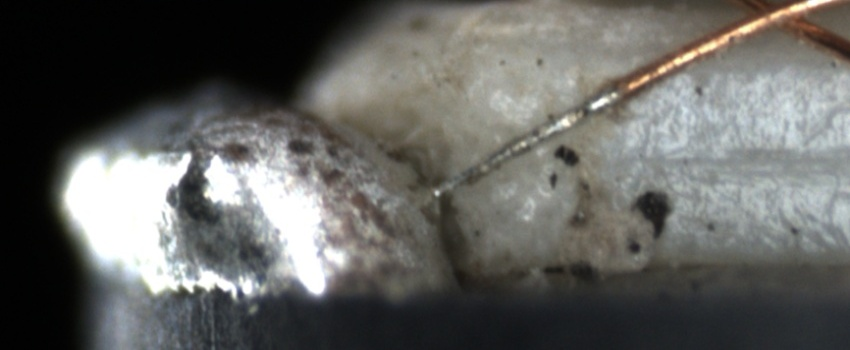CL: (720, 1, 831, 42)
DL: (635, 124, 850, 188)
TS: (437, 86, 622, 198)
TTCW: (424, 38, 702, 201)
